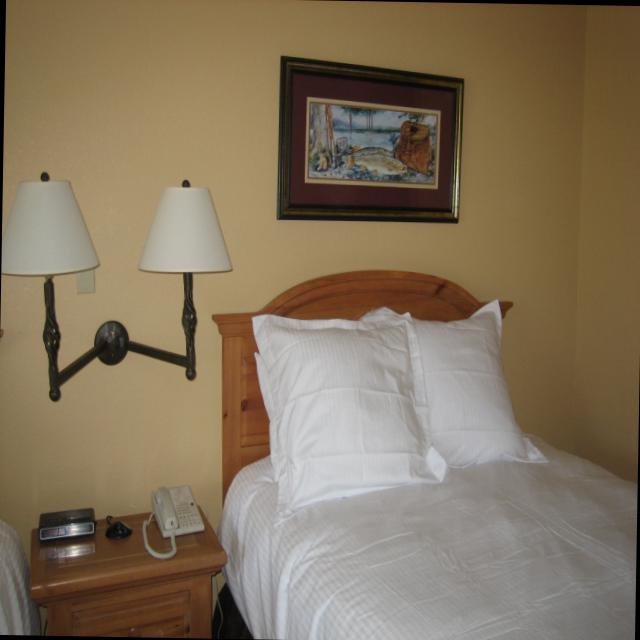alarm: (38, 507, 95, 541)
bed -occluded-: (213, 270, 636, 640), (0, 519, 41, 634)
lamp crop: (1, 174, 100, 401), (137, 187, 233, 382)
nightstand: (28, 502, 226, 637)
painting crop: (277, 55, 465, 223)
phone handset: (105, 519, 130, 537)
pillow occluded: (417, 298, 549, 468)
pilow: (251, 308, 449, 528)
telephone booth: (143, 484, 205, 559)
wall clock: (563, 5, 640, 640)
